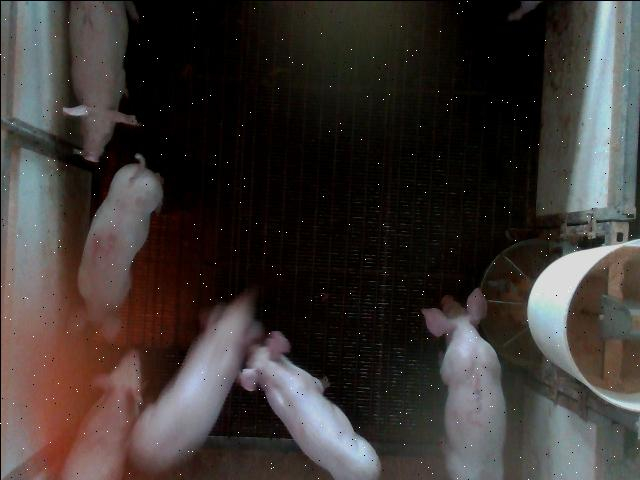pig-3: (421, 288, 505, 479)
pig-4: (68, 152, 161, 339)
